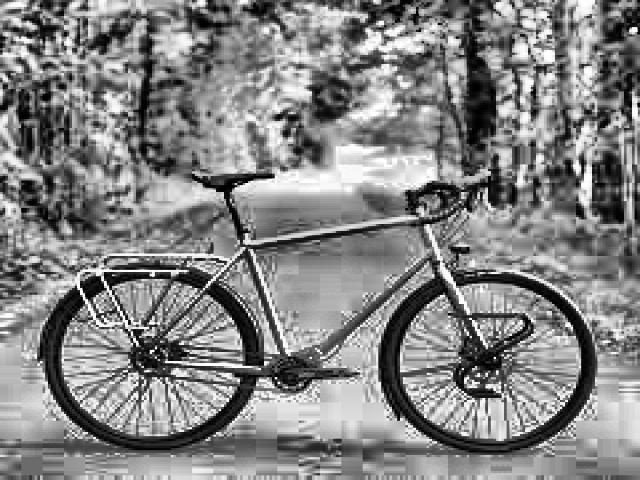cranks_set: (267, 354, 345, 392)
pedal: (334, 363, 362, 378)
saddle: (188, 165, 274, 195)
sti_shifter: (477, 166, 497, 214)
wheel: (41, 266, 266, 454), (379, 268, 598, 455)
